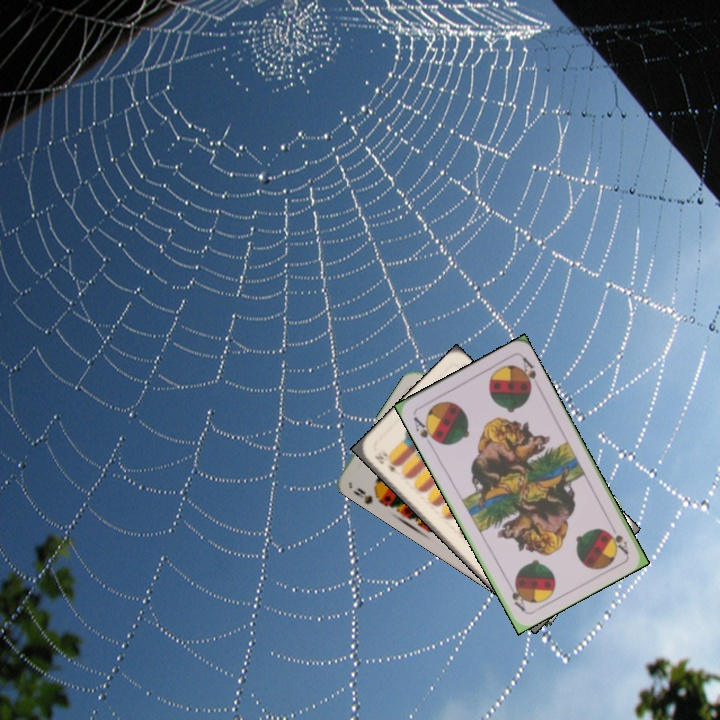E10: (370, 449, 403, 478)
S9: (349, 484, 386, 507)
SA: (409, 413, 440, 449), (604, 527, 631, 557)
